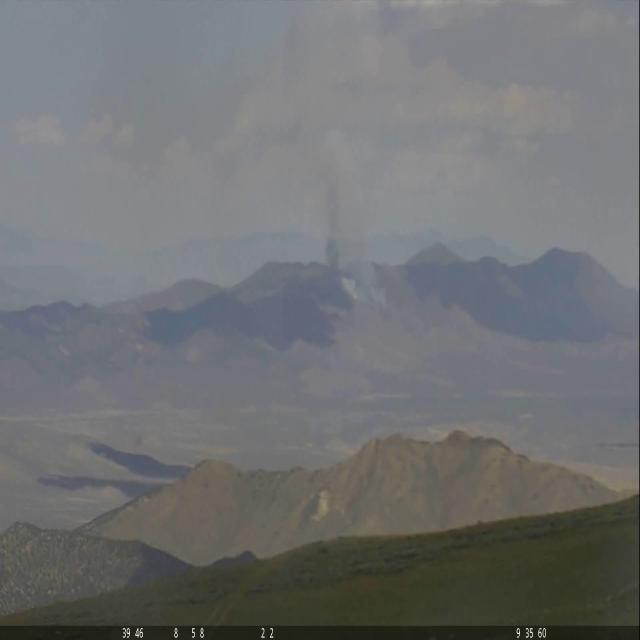smoke: (322, 147, 389, 308)
